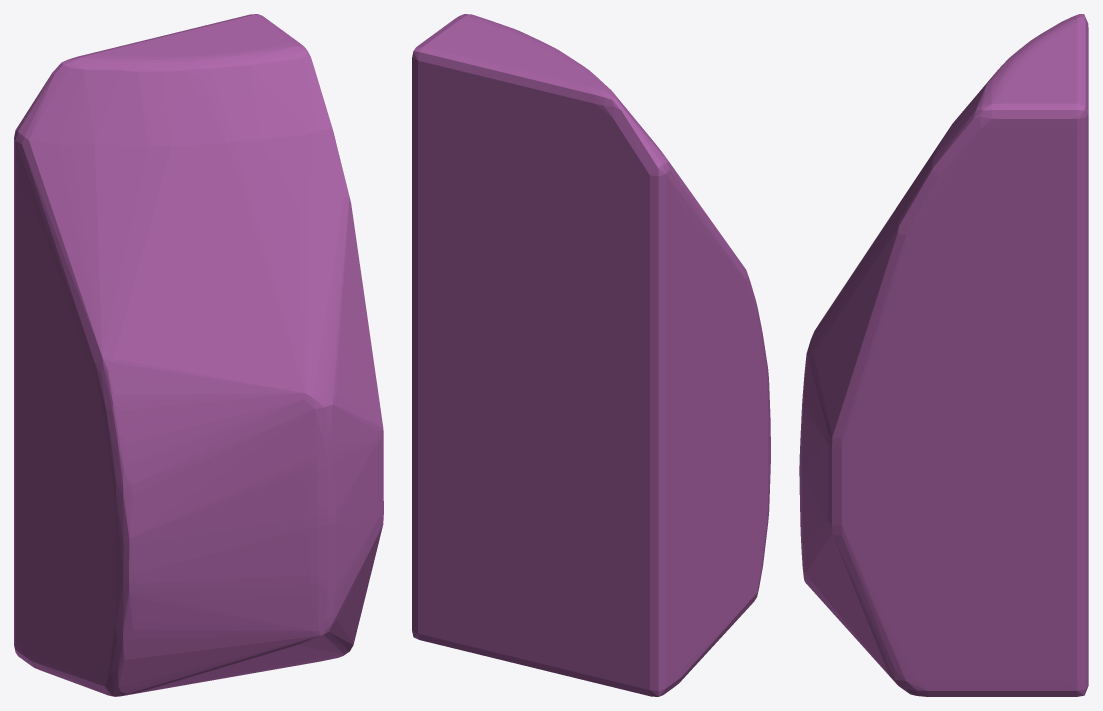
The model's file is right_hip_roll_link_part_7.obj.
3 views of the same model, side by side, from view 1: azimuth 30°, elevation 25°; view 2: azimuth 150°, elevation 25°; view 3: azimuth 270°, elevation 25° (orthographic).
Bounding box in the file's own units: 0.0336 × 0.0752 × 0.0333.
